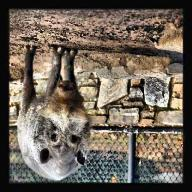boar: (10, 46, 116, 189)
